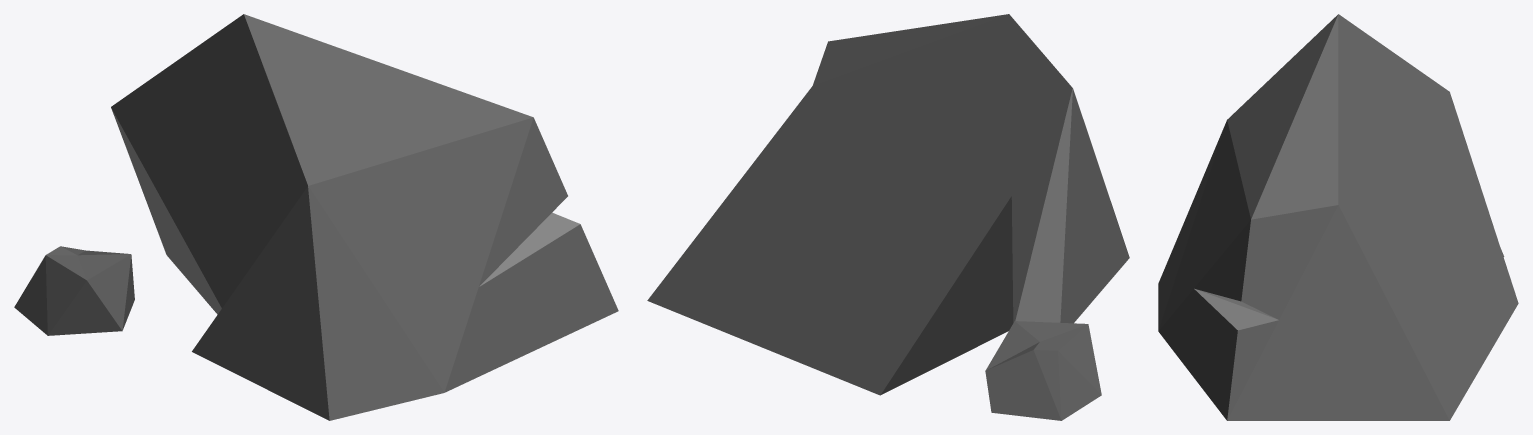
File: rock2.fbx
3 renders of one model, left to right at view 1: azimuth 30°, elevation 25°; view 2: azimuth 150°, elevation 25°; view 3: azimuth 270°, elevation 25°, orthographic. The views are drawn at different scales.
Visible parts, largest first — view 1: rock2; view 2: rock2; view 3: rock2.
Boxes of the visible parts, x1,y1,x2,y2 form: rock2: (14,14,618,420); rock2: (647,14,1129,420); rock2: (1158,14,1518,420).
Bounding box in the file's own units: 3.72 × 2.53 × 2.98.
